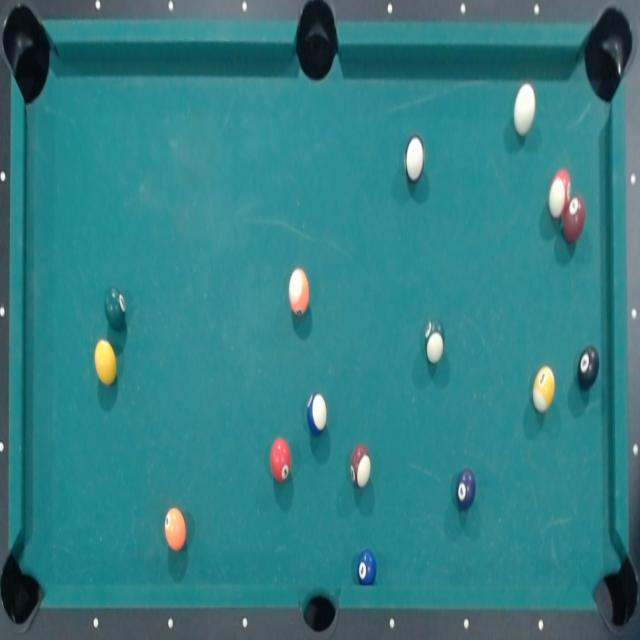black_8ball: (577, 345, 600, 390)
blue_solid: (356, 547, 378, 587)
blue_stripe: (305, 390, 329, 437)
cue_ball: (512, 84, 538, 139)
green_solid: (102, 284, 130, 334)
green_stripe: (424, 317, 447, 367)
maroon_solid: (564, 198, 586, 242)
maroon_stripe: (349, 446, 374, 488)
orange_solid: (163, 507, 187, 550)
orange_stripe: (287, 267, 312, 320)
playr: (456, 467, 476, 510)
purple_solid: (403, 132, 427, 186)
purple_stripe: (270, 436, 292, 483)
red_solid: (549, 168, 571, 219)
red_stripe: (93, 338, 121, 389)
yellow_solid: (532, 362, 556, 418)
